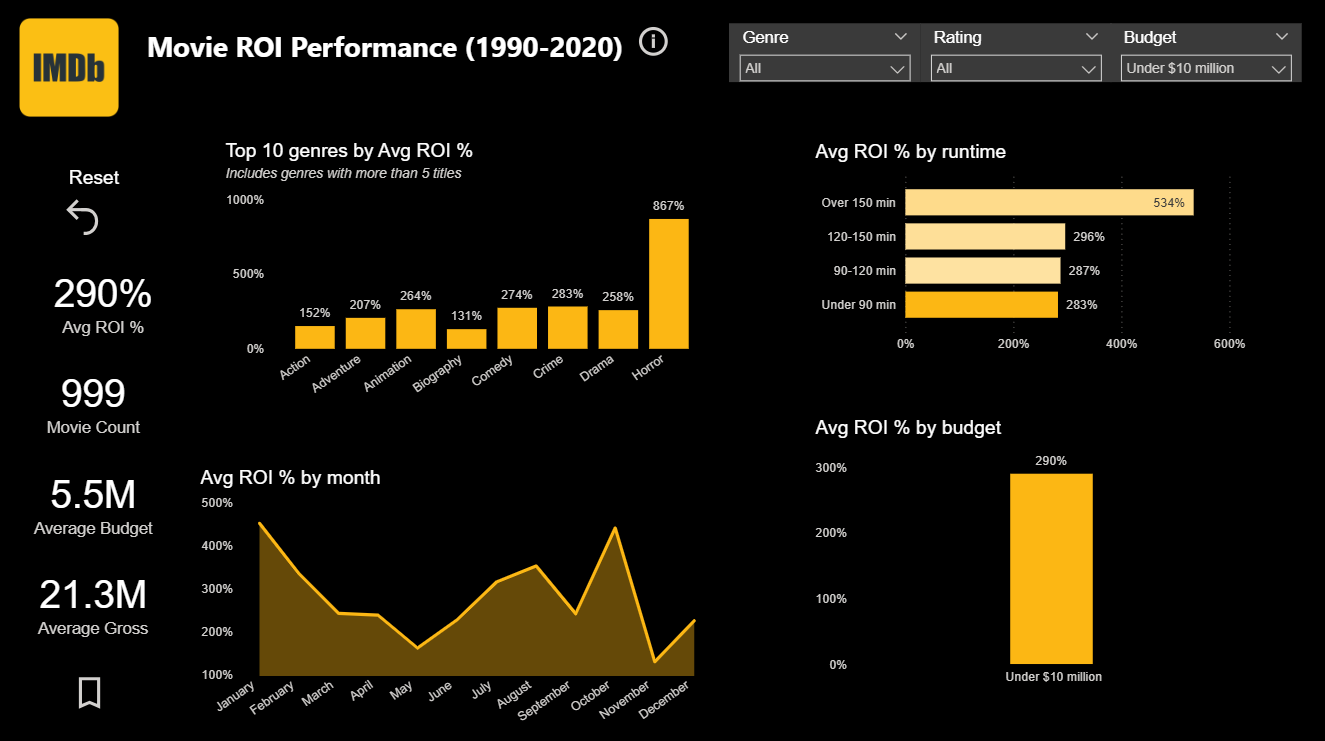

The dashboard page shown, as its layout file describes it:
{"tool":"powerbi","page":{"name":"Overview & Insights","canvas":[1280,720],"ordinal":0},"visuals":[{"type":"image","box":[9.7,9.7,115.8,117],"z":0},{"type":"textbox","box":[137.5,24.1,475.3,49.5],"z":1000},{"type":"clusteredColumnChart","title":"Top 10 genres by Avg ROI %","fields":{"Category":["vw_MovieROI_Fact.genre"],"Y":["vw_MovieROI_Fact.Portfolio ROI %"]},"box":[213.5,137.5,477.8,266.6],"z":2000},{"type":"areaChart","title":"Avg ROI % by month","fields":{"Category":["vw_MovieROI_Fact.release_date.Variation.Date Hierarchy.Month"],"Y":["vw_MovieROI_Fact.Portfolio ROI %"]},"box":[189,453,502.1,266.9],"z":3000},{"type":"slicer","fields":{"Values":["vw_MovieROI_Fact.genre"]},"box":[704.1,24.9,185.1,57],"z":4000},{"type":"slicer","fields":{"Values":["vw_MovieROI_Fact.rating"]},"box":[889.2,24.9,185.1,57],"z":5000},{"type":"slicer","fields":{"Values":["vw_MovieROI_Fact.budget_category"]},"box":[1072.5,24.9,185.1,57],"z":6000},{"type":"clusteredBarChart","title":"Avg ROI % by runtime","fields":{"Category":["vw_MovieROI_Fact.runtime_category"],"Y":["vw_MovieROI_Fact.Portfolio ROI %"]},"box":[783,138.7,429.5,212.3],"z":7000},{"type":"clusteredColumnChart","title":"Avg ROI % by budget","fields":{"Category":["vw_MovieROI_Fact.budget_category"],"Y":["vw_MovieROI_Fact.Portfolio ROI %"]},"box":[783,405.4,429.5,266.6],"z":8000},{"type":"card","fields":{"Values":["vw_MovieROI_Fact.Portfolio ROI %"]},"box":[0,244.9,201.5,96.5],"z":9000},{"type":"card","fields":{"Values":["vw_MovieROI_Fact.Average Budget"]},"box":[10.1,438.6,163,96.7],"z":10000},{"type":"card","fields":{"Values":["vw_MovieROI_Fact.Average Gross"]},"box":[9.7,535.7,162.9,96.5],"z":11000},{"type":"card","fields":{"Values":["vw_MovieROI_Fact.Movie Count"]},"box":[10.1,341.9,163,96.7],"z":12000},{"type":"actionButton","title":"Reset","box":[57.9,164.1,67.6,71.2],"z":13000},{"type":"actionButton","box":[612.9,24.1,43.4,37.4],"z":14000},{"type":"actionButton","box":[67.6,651.5,43.4,39.8],"z":15000}]}

Visuals, with their boxes in screenshot pixels (x1, y1, x2, y2), scaled from the page's 1280x720 canvas onto the 1325x741 screenshot:
image: (x1=10, y1=10, x2=130, y2=130)
textbox: (x1=142, y1=25, x2=634, y2=76)
"Top 10 genres by Avg ROI %" clusteredColumnChart: (x1=221, y1=142, x2=716, y2=416)
"Avg ROI % by month" areaChart: (x1=196, y1=466, x2=715, y2=740)
slicer - vw_MovieROI_Fact.genre: (x1=729, y1=26, x2=920, y2=84)
slicer - vw_MovieROI_Fact.rating: (x1=920, y1=26, x2=1112, y2=84)
slicer - vw_MovieROI_Fact.budget_category: (x1=1110, y1=26, x2=1302, y2=84)
"Avg ROI % by runtime" clusteredBarChart: (x1=811, y1=143, x2=1255, y2=361)
"Avg ROI % by budget" clusteredColumnChart: (x1=811, y1=417, x2=1255, y2=692)
card - vw_MovieROI_Fact.Portfolio ROI %: (x1=0, y1=252, x2=209, y2=351)
card - vw_MovieROI_Fact.Average Budget: (x1=10, y1=451, x2=179, y2=551)
card - vw_MovieROI_Fact.Average Gross: (x1=10, y1=551, x2=179, y2=651)
card - vw_MovieROI_Fact.Movie Count: (x1=10, y1=352, x2=179, y2=451)
"Reset" actionButton: (x1=60, y1=169, x2=130, y2=242)
actionButton: (x1=634, y1=25, x2=679, y2=63)
actionButton: (x1=70, y1=671, x2=115, y2=711)
